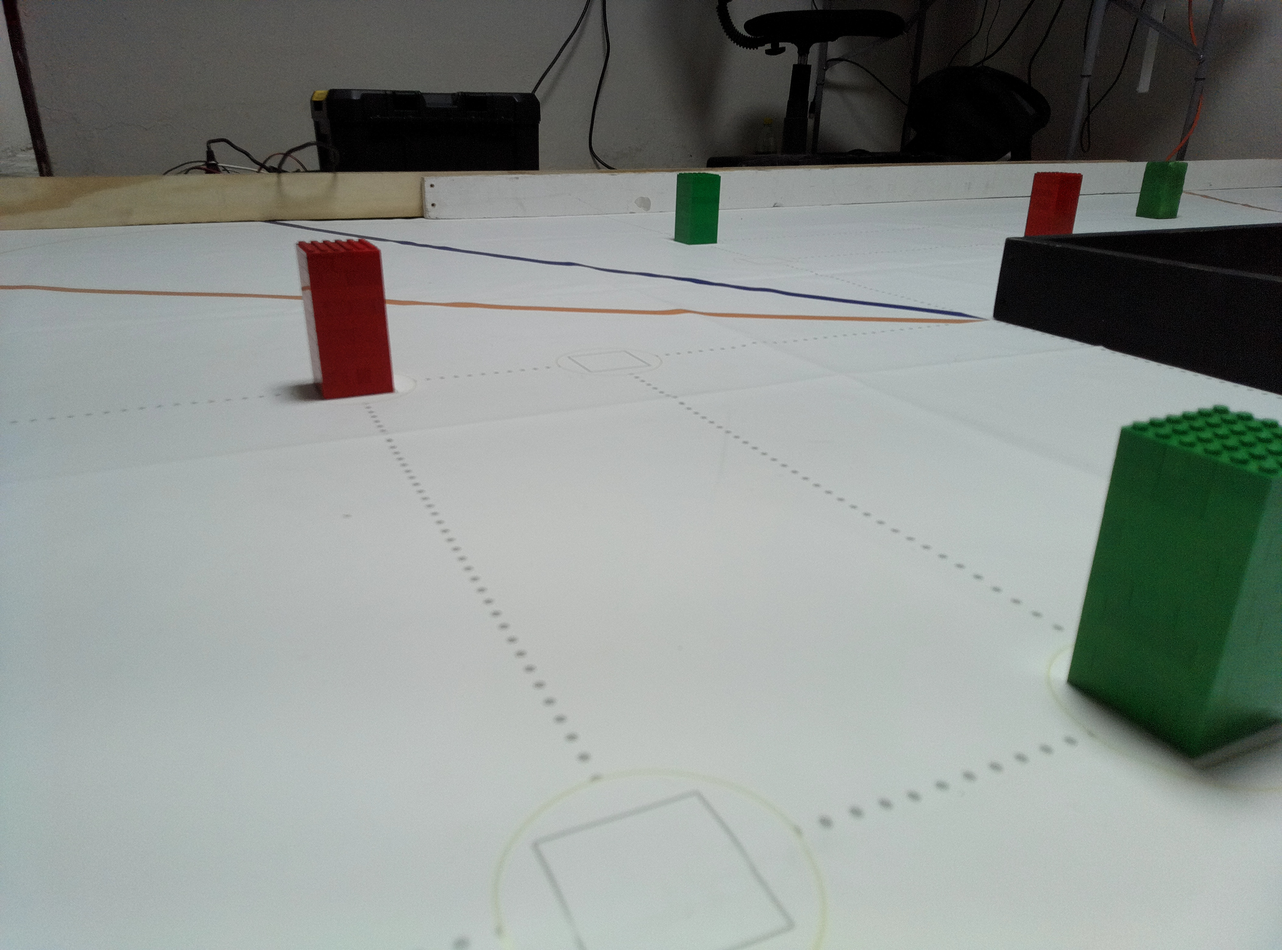greenbox: (1062, 403, 1281, 763), (673, 172, 721, 246), (1135, 160, 1190, 220)
redbox: (291, 239, 397, 402), (1022, 169, 1084, 236)
